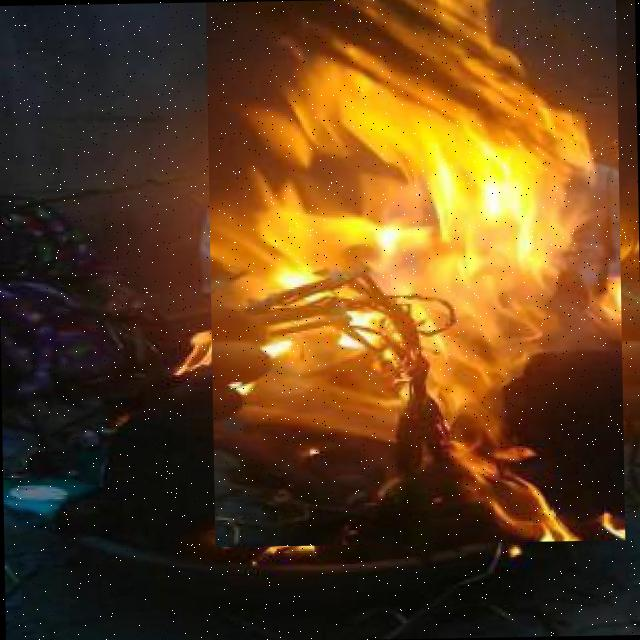fire: (205, 0, 624, 547)
